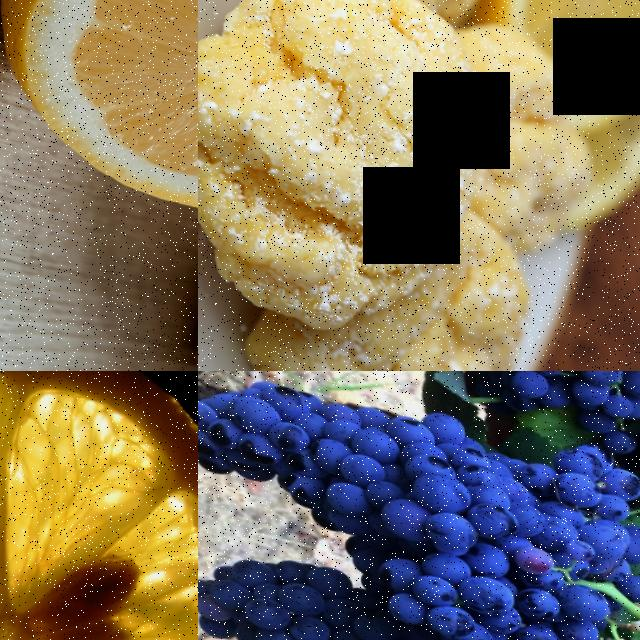grapes: (198, 371, 639, 593), (365, 525, 629, 640), (198, 527, 401, 640), (495, 371, 640, 437)
lemon: (0, 371, 198, 640), (0, 0, 198, 257), (492, 0, 640, 75)
